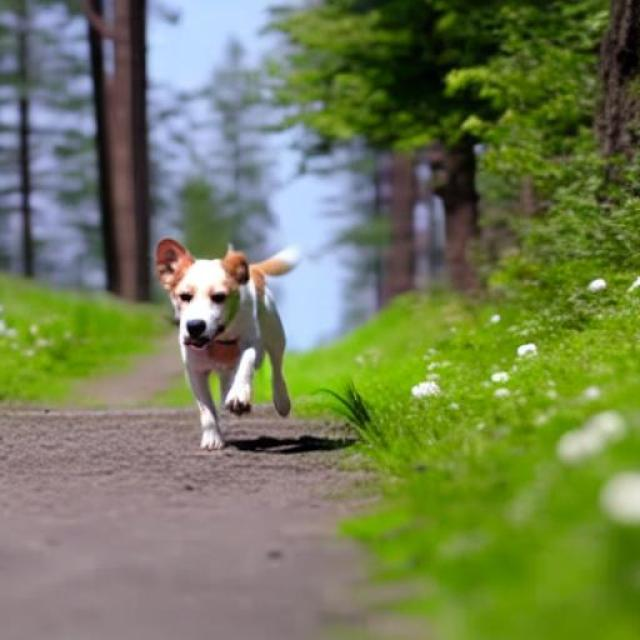Dog: (155, 238, 301, 451)
